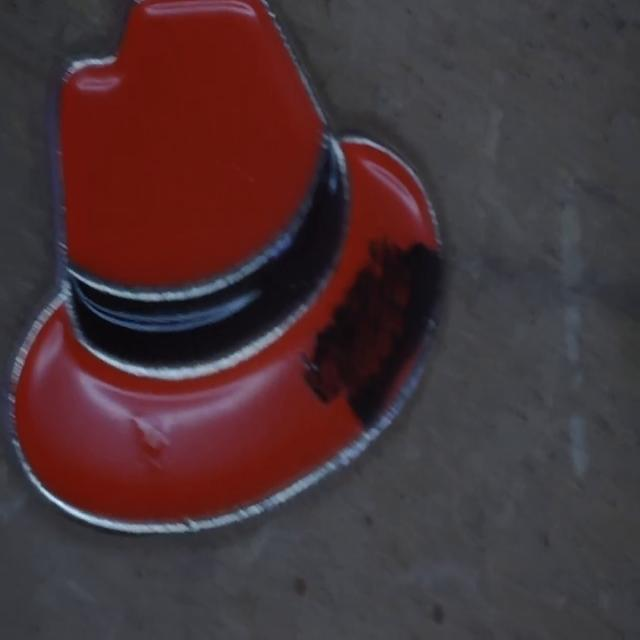Hatband: (68, 136, 348, 369)
Paint_Leak: (305, 242, 441, 427)
RedHatPin: (9, 0, 442, 531)
